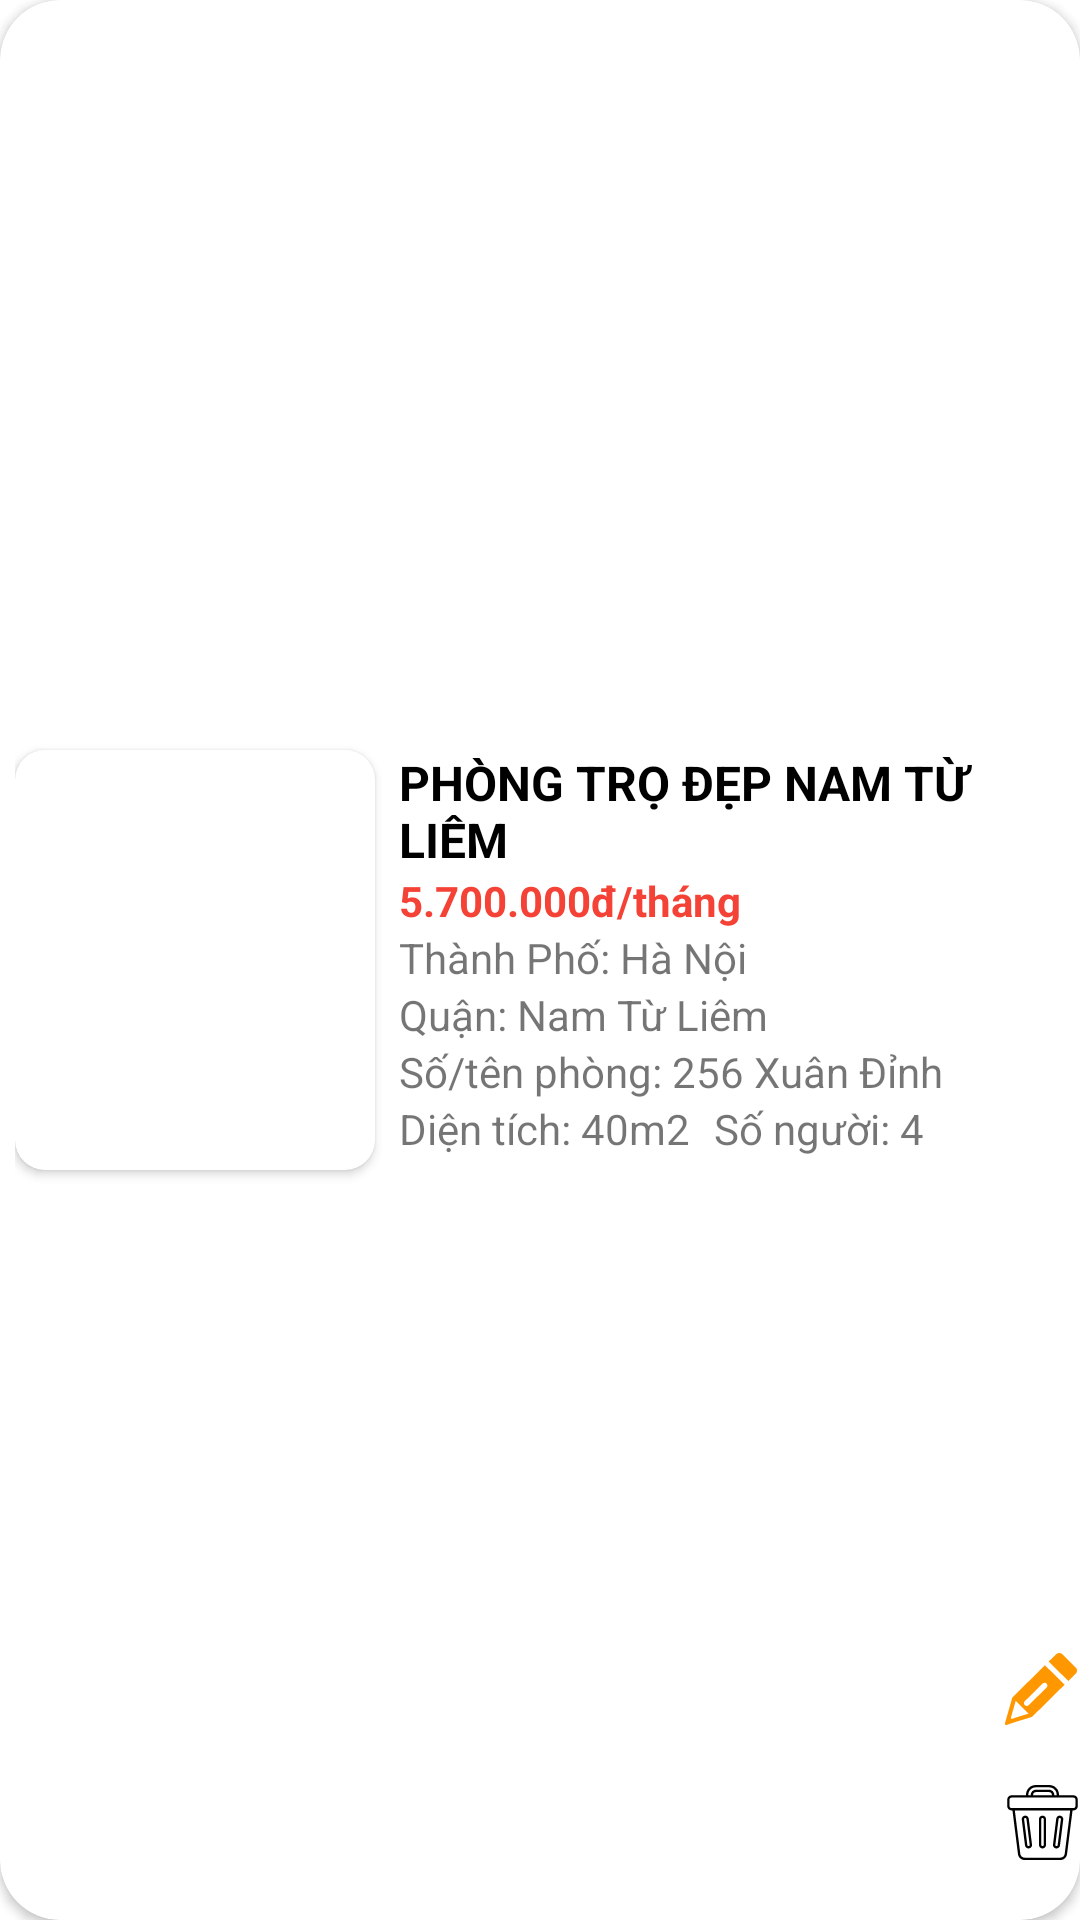

Screen size 1080 x 1920. Icon name, then its box in pixels as detection(x1, y1, x2, y2):
pencil: detection(1005, 1653, 1077, 1725)
recyclebin: detection(1007, 1785, 1078, 1860)
